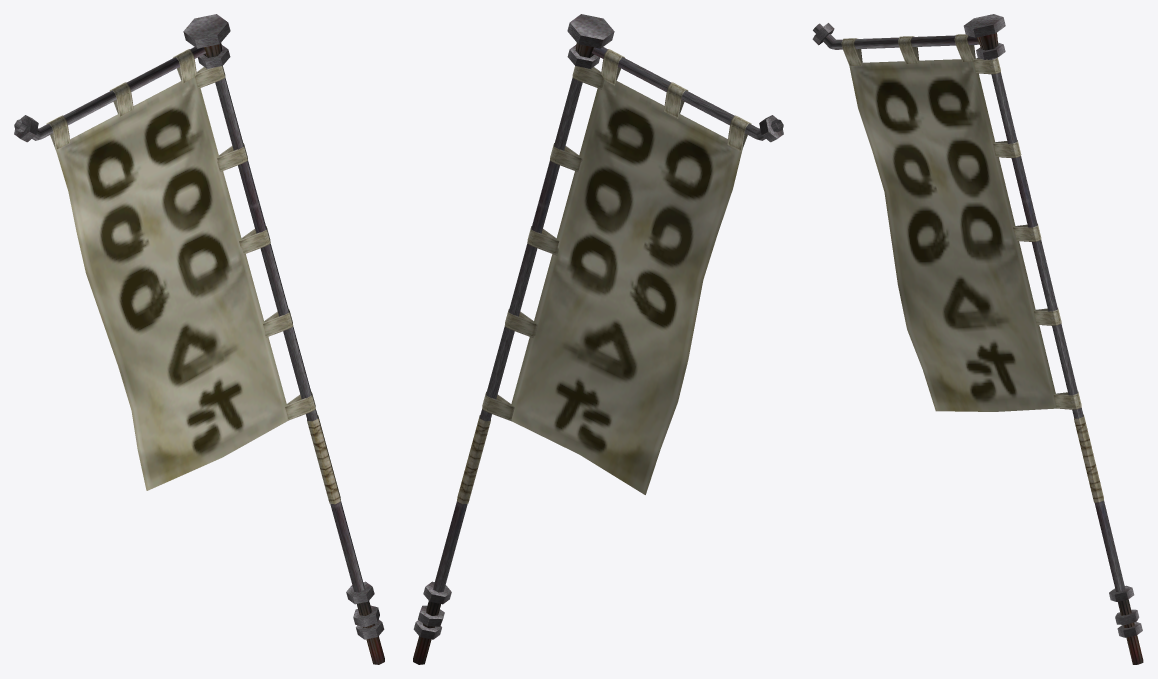
Rendered from mcicon.ico.obj.
The picture shows the model from 3 angles, left to right: view 1: azimuth 30°, elevation 25°; view 2: azimuth 150°, elevation 25°; view 3: azimuth 330°, elevation 25°; orthographic projection. The views are drawn at different scales.
Size of the model in its own units: 2.71 by 4.79 by 0.2925.
1 material, 1 textured.
